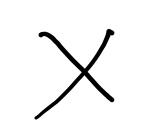mult: (34, 29, 117, 120)
